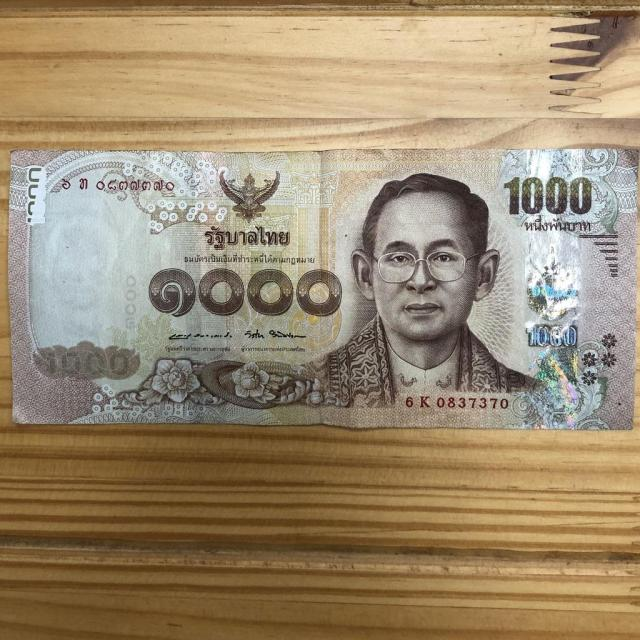THAI1000: (8, 146, 639, 428)
